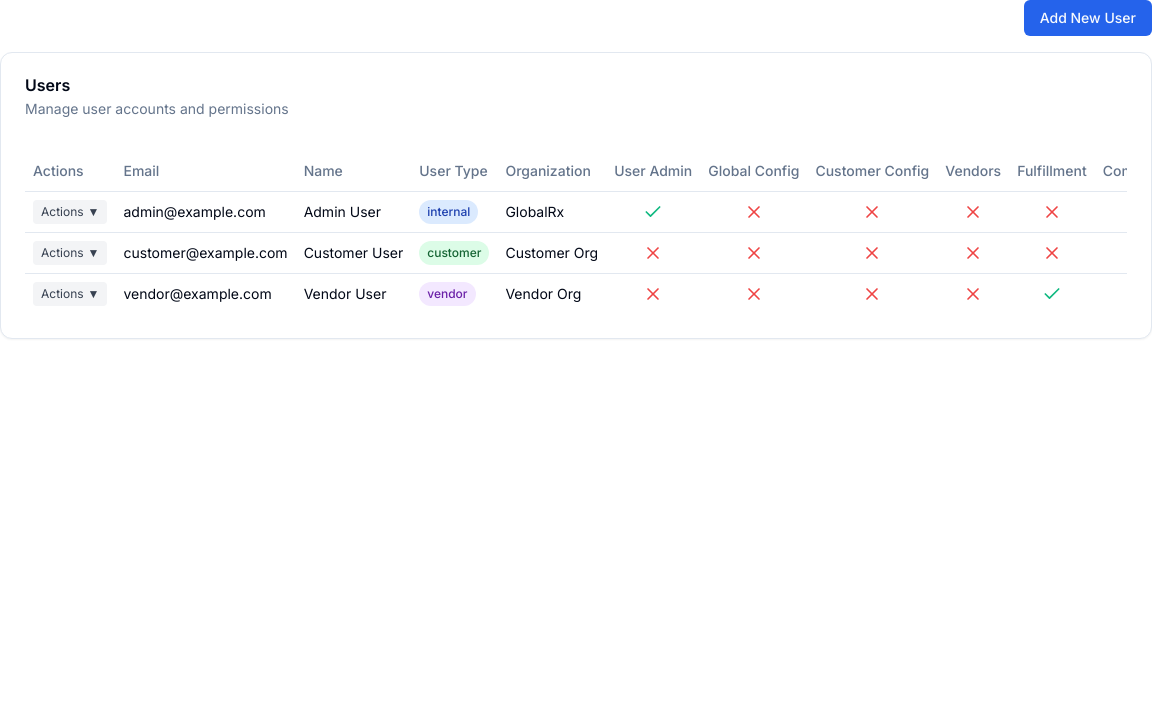
Test case: UserAdminContent › delete user › should show confirmation dialog when Delete action is clicked
Expected: the text "admin@example.com" is shown, top-left (116, 191), bottom-right (296, 232)
// Find and click the action dropdown for the first user
Click the button "Actions ▼" next to "admin@example.com" at (70, 212), box top-left (33, 200), bottom-right (108, 224)
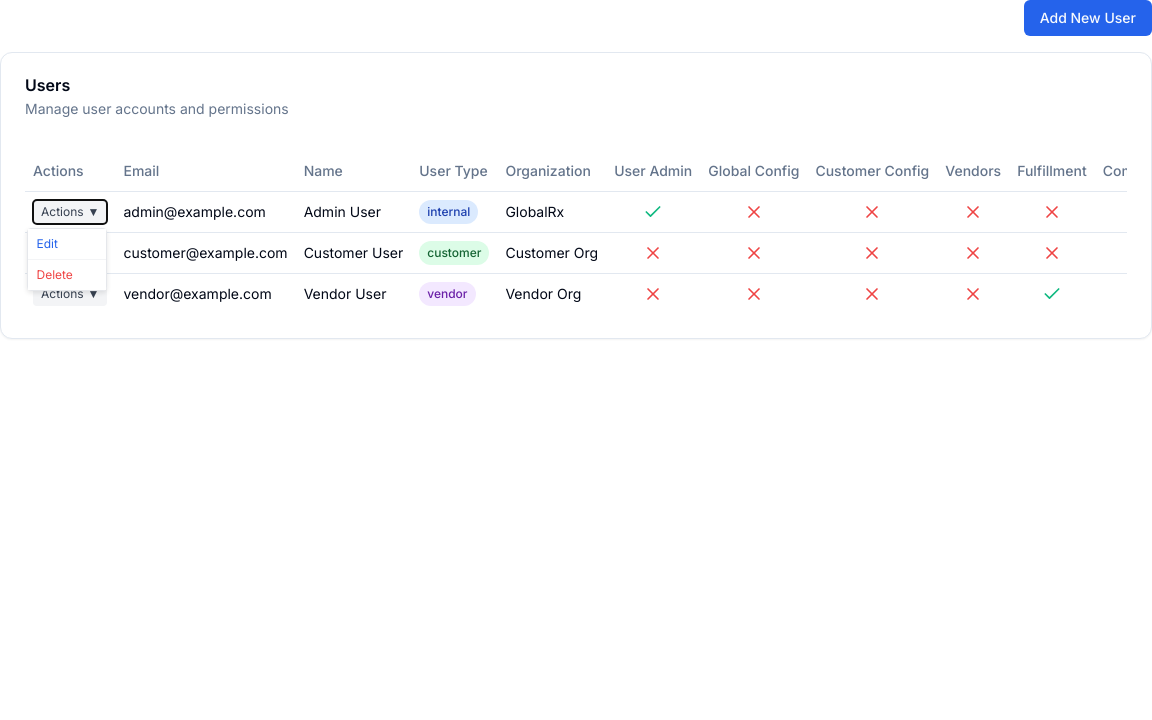
// Click Delete option
Click the button "Delete" at (68, 274), box top-left (28, 260), bottom-right (106, 290)
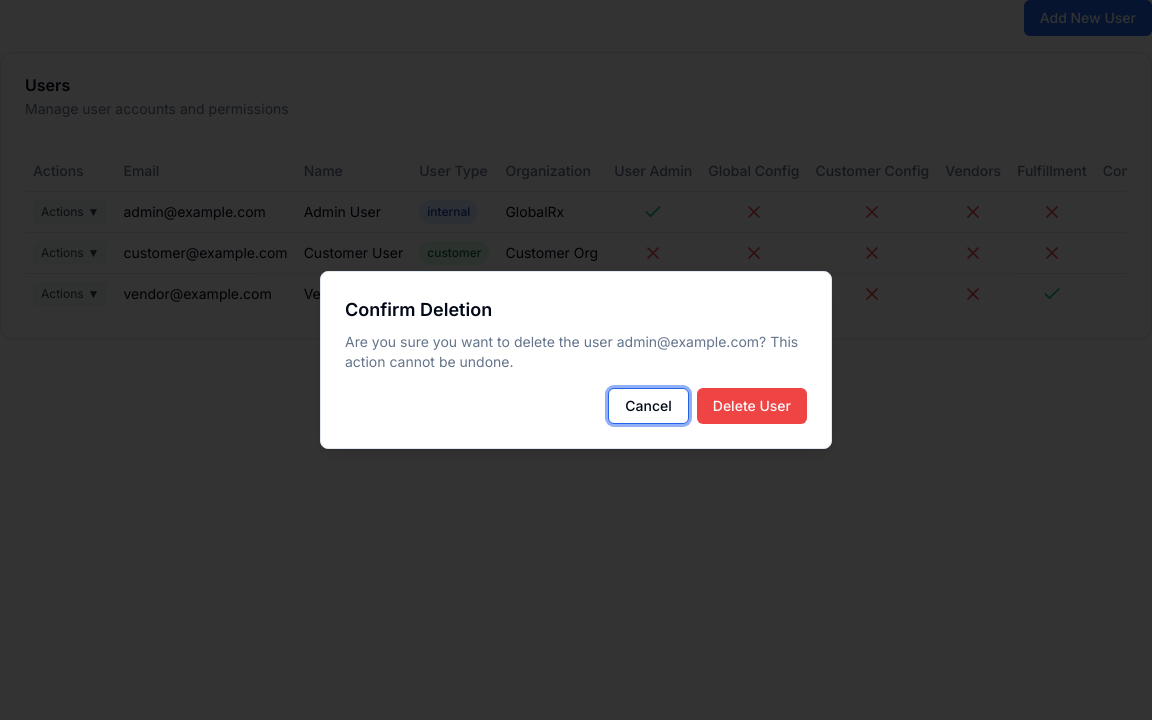
Expected: the heading "Confirm Deletion" is shown, top-left (345, 299), bottom-right (492, 320)
Expected: the text "Are you sure you want to delete the user admin@example.com" is shown, top-left (345, 332), bottom-right (807, 372)
